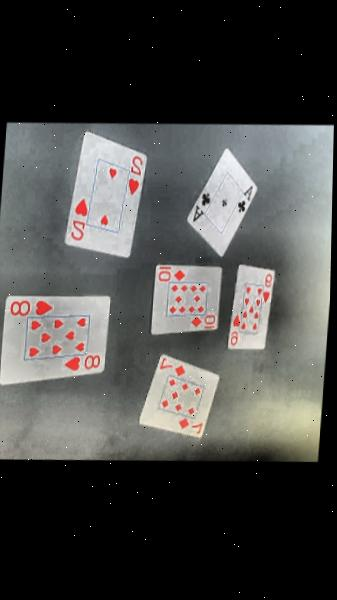10D: (152, 262, 185, 288), (186, 308, 219, 333)
2C: (62, 194, 92, 250), (121, 147, 149, 199)
7D: (170, 408, 211, 442), (156, 347, 193, 381)
8C: (7, 292, 54, 326), (63, 355, 109, 379)
9C: (254, 261, 273, 304), (224, 312, 243, 349)
AT: (186, 182, 212, 229), (234, 177, 259, 217)
